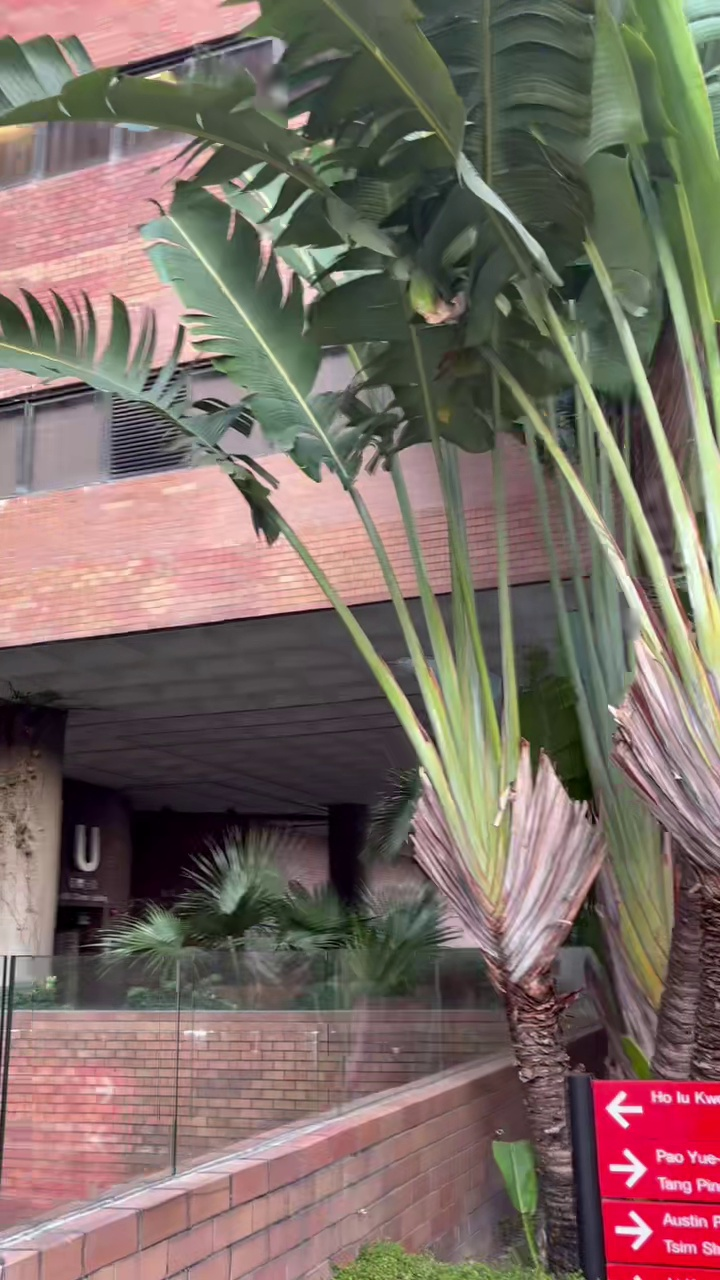Travellers-tree: (0, 0, 719, 1271)
